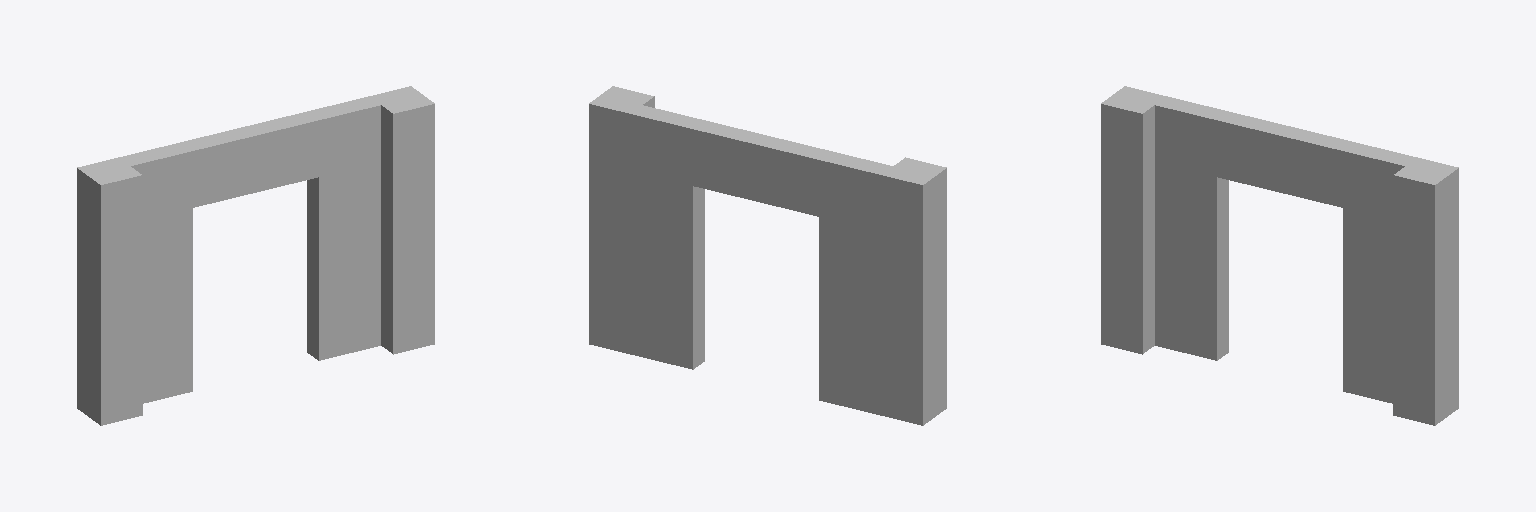
The model's file is elevatorDoor.obj.
3 views of the same model, side by side, from view 1: azimuth 30°, elevation 25°; view 2: azimuth 150°, elevation 25°; view 3: azimuth 330°, elevation 25° (orthographic).
Parts seen in each view (by area): view 1: Cube.004_Cube.011; view 2: Cube.004_Cube.011; view 3: Cube.004_Cube.011.
Boxes of the visible parts, <box> form: Cube.004_Cube.011: <box>77,86,434,425</box>; Cube.004_Cube.011: <box>589,86,946,425</box>; Cube.004_Cube.011: <box>1101,86,1458,425</box>.
Bounding box in the file's own units: 16 × 11 × 2.